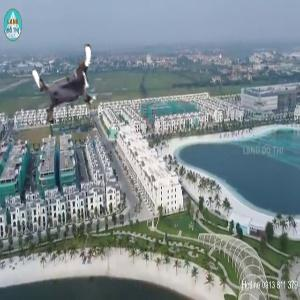drone: (27, 46, 109, 128)
